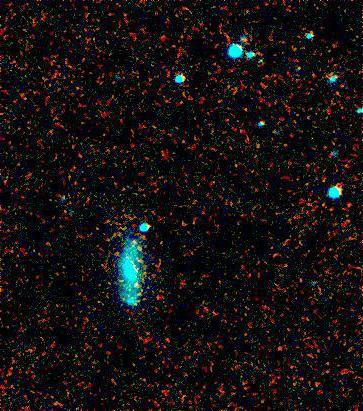star: (120, 268, 150, 298)
